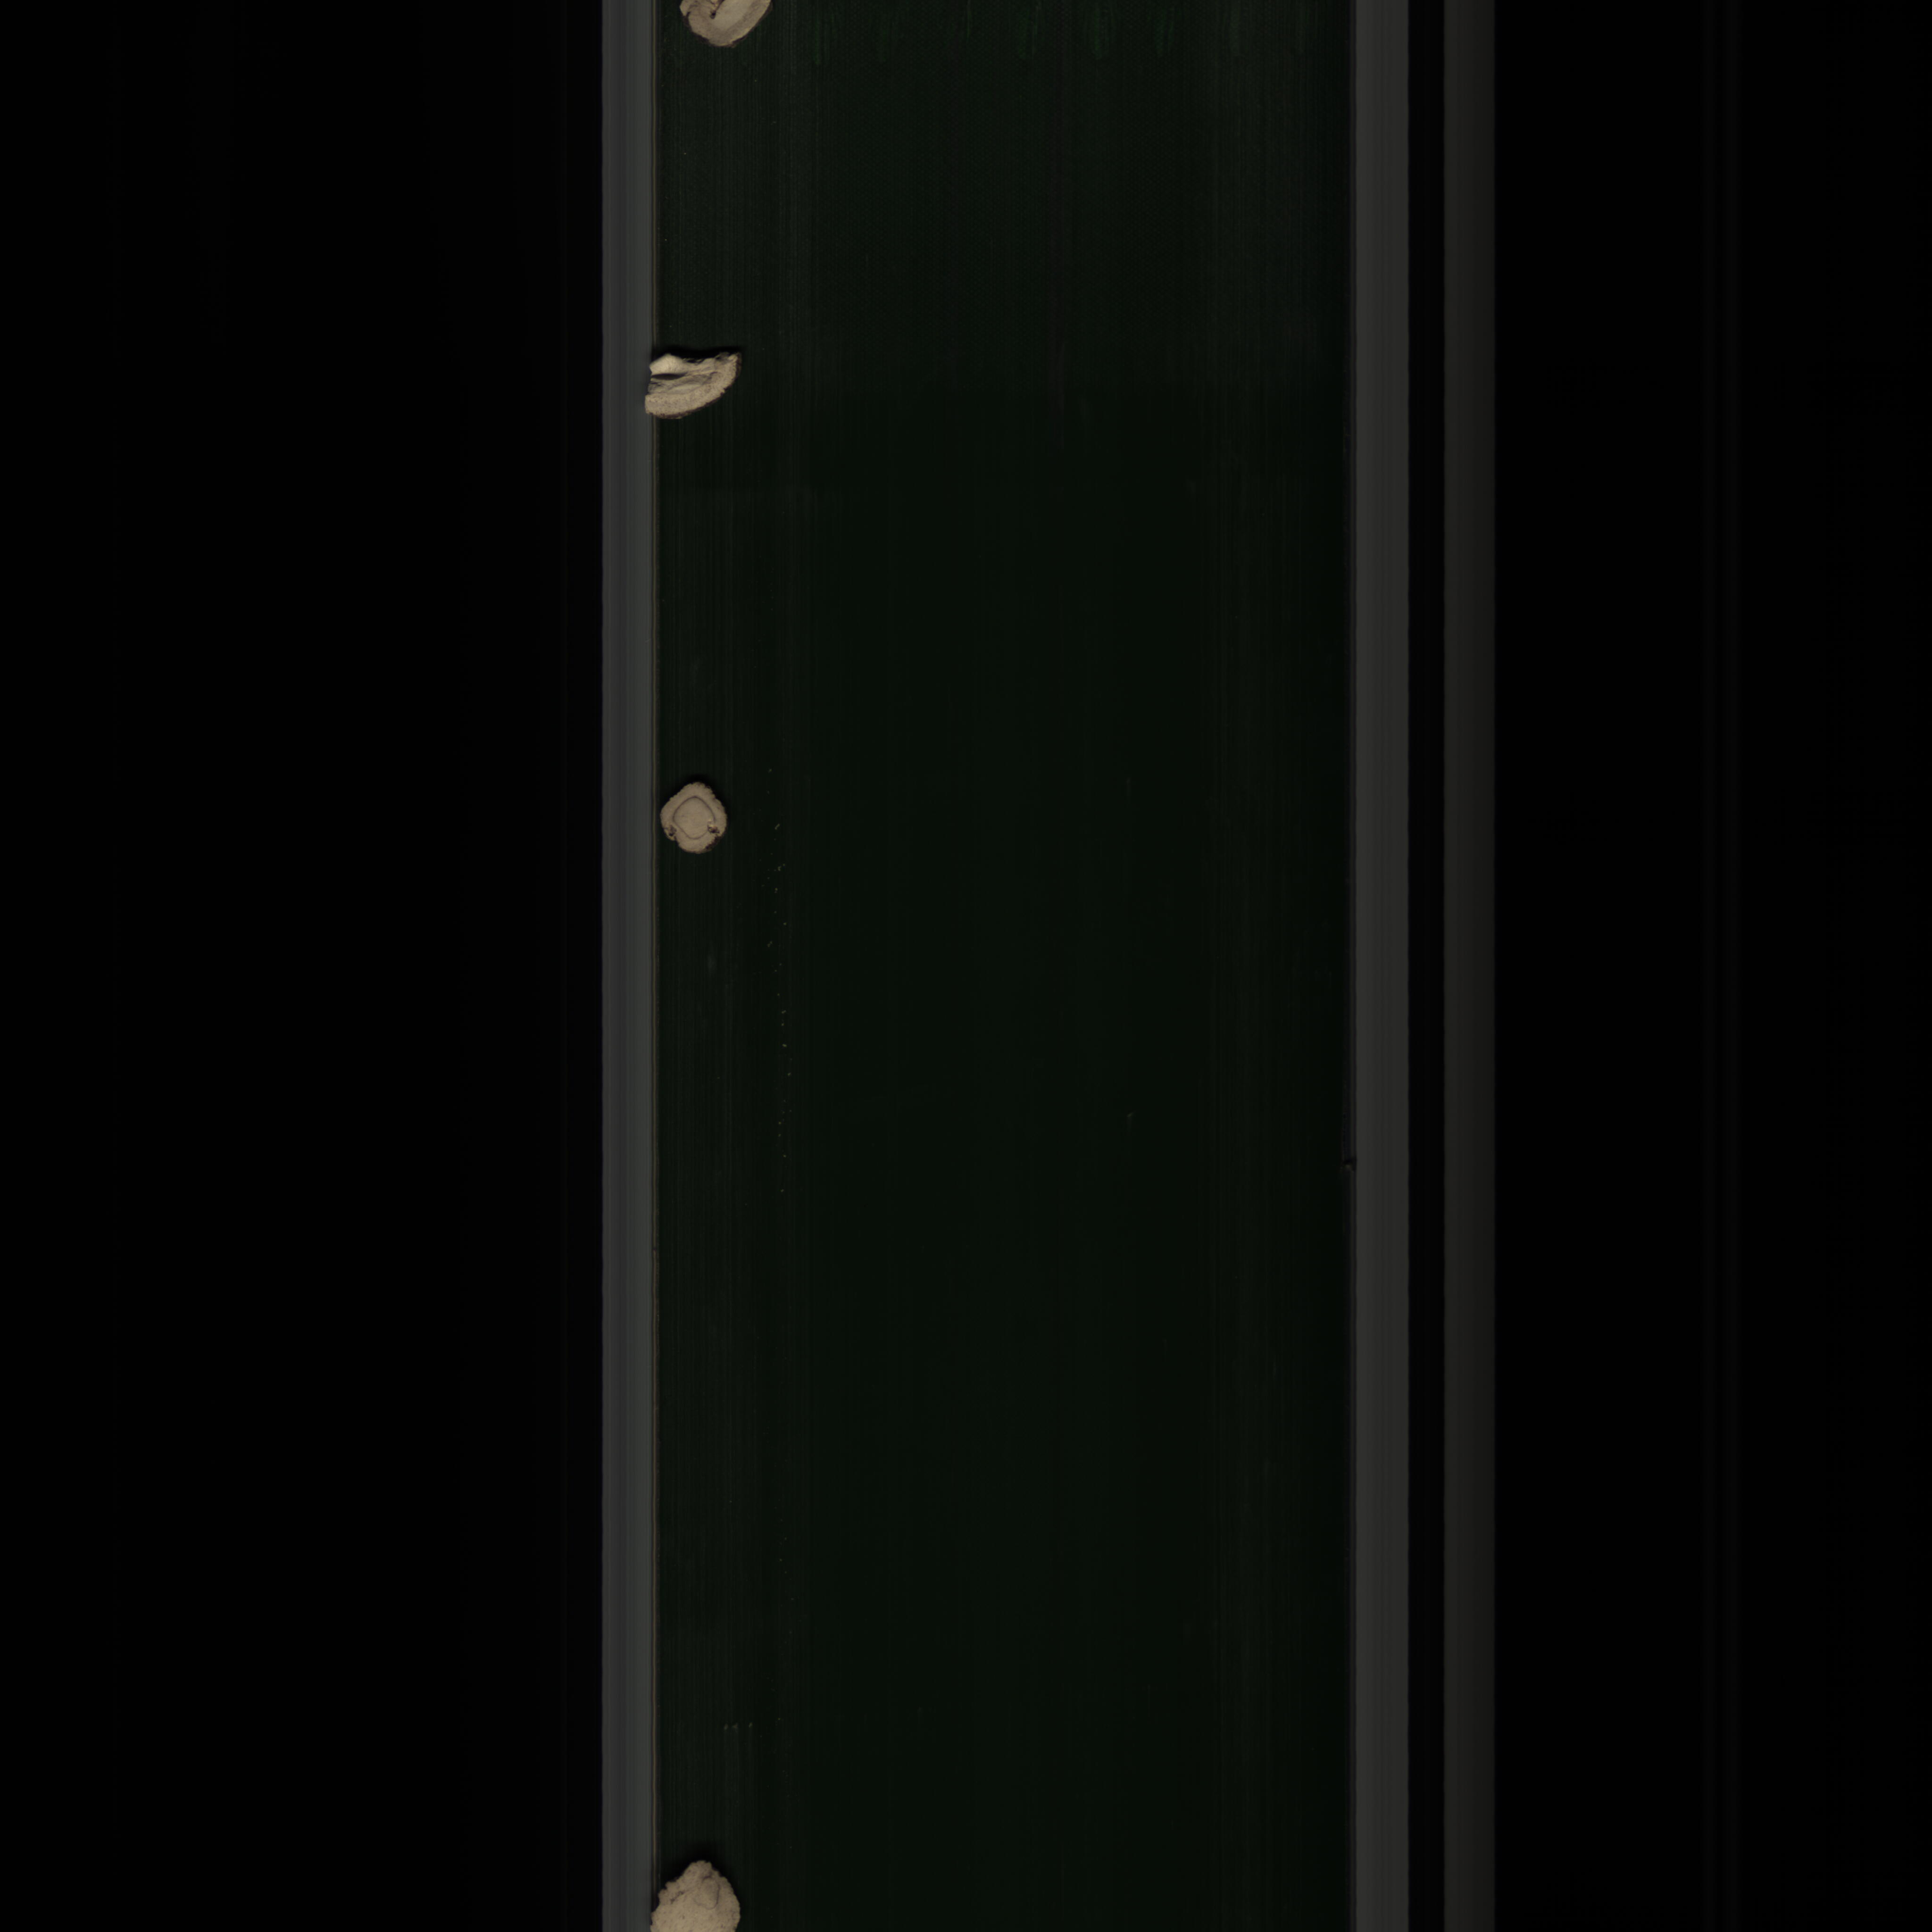debris: (630, 340, 754, 419)
moldy: (660, 778, 729, 858)
